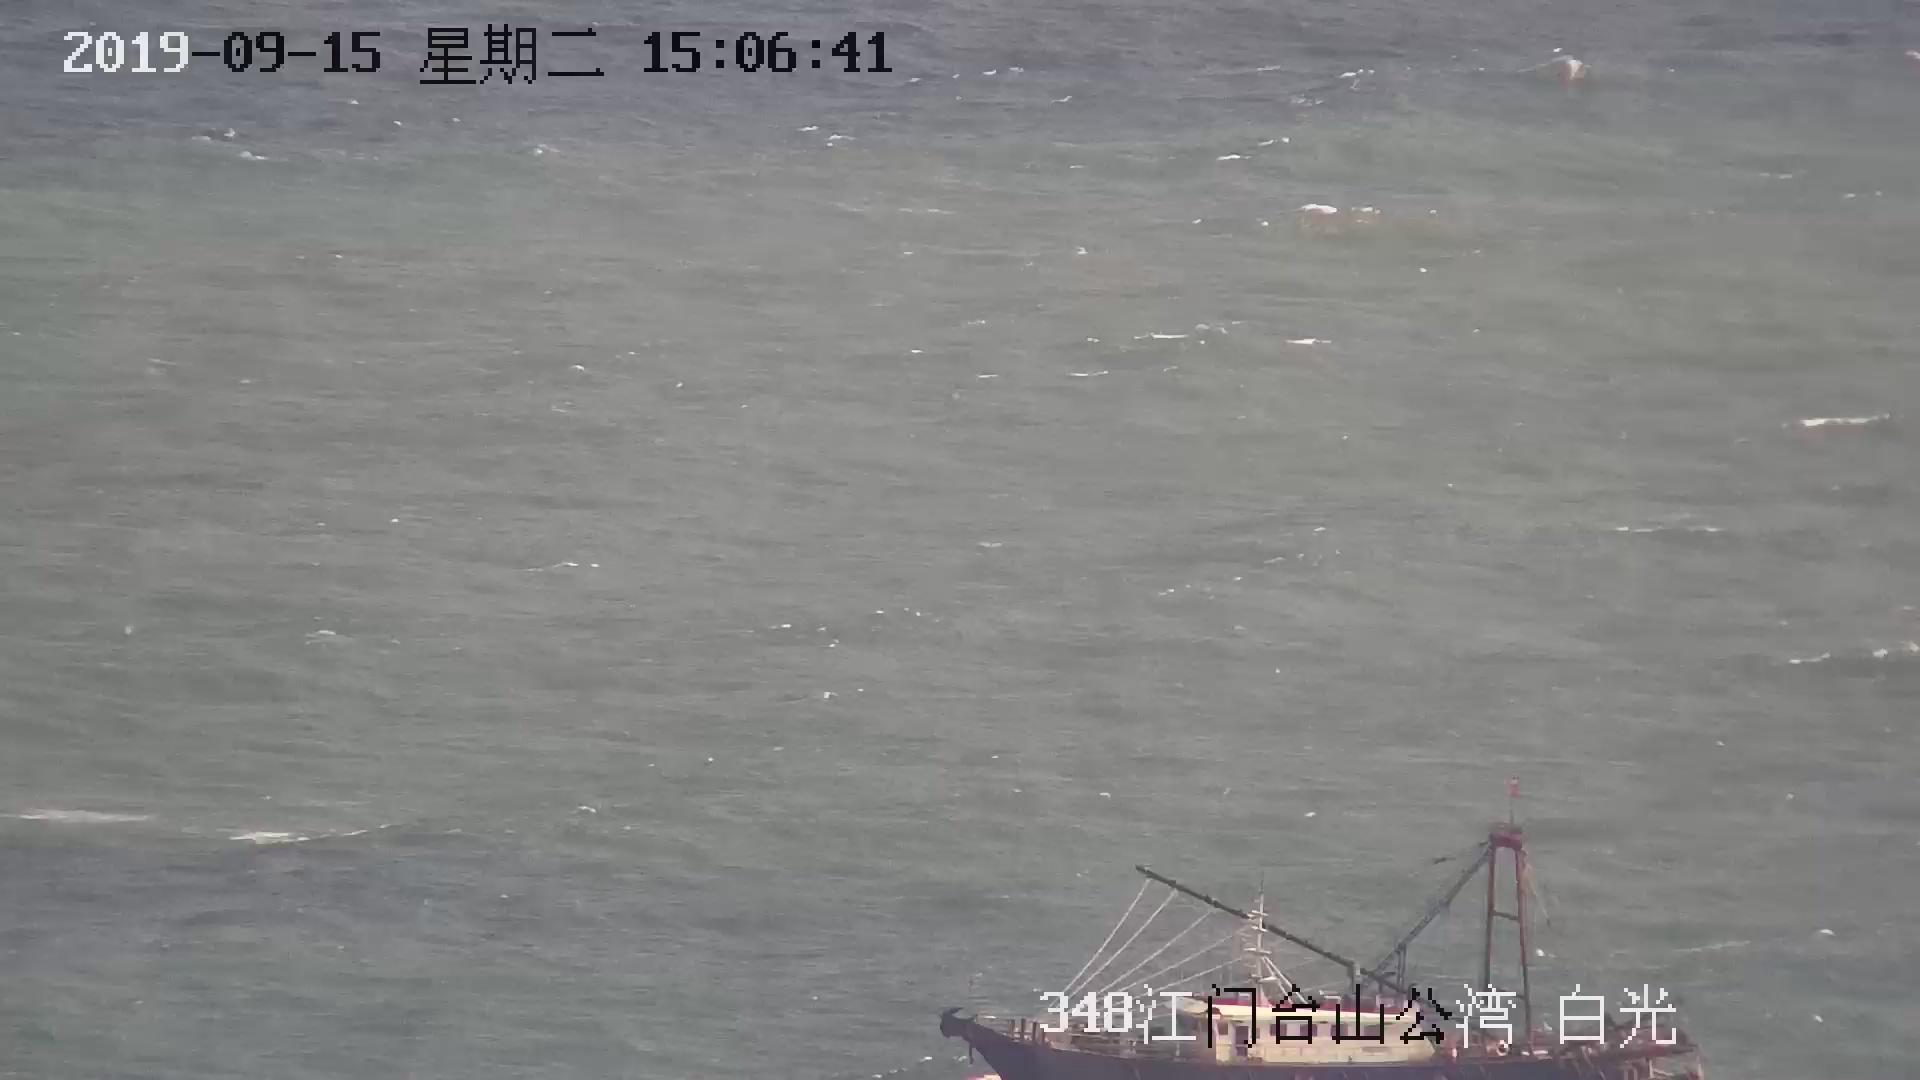ship: (955, 855, 1698, 1080)
